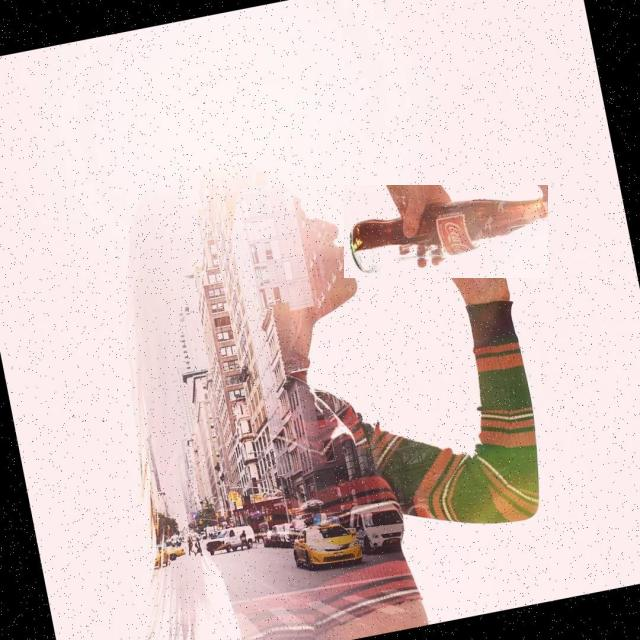coca-cola: (344, 185, 548, 278)
